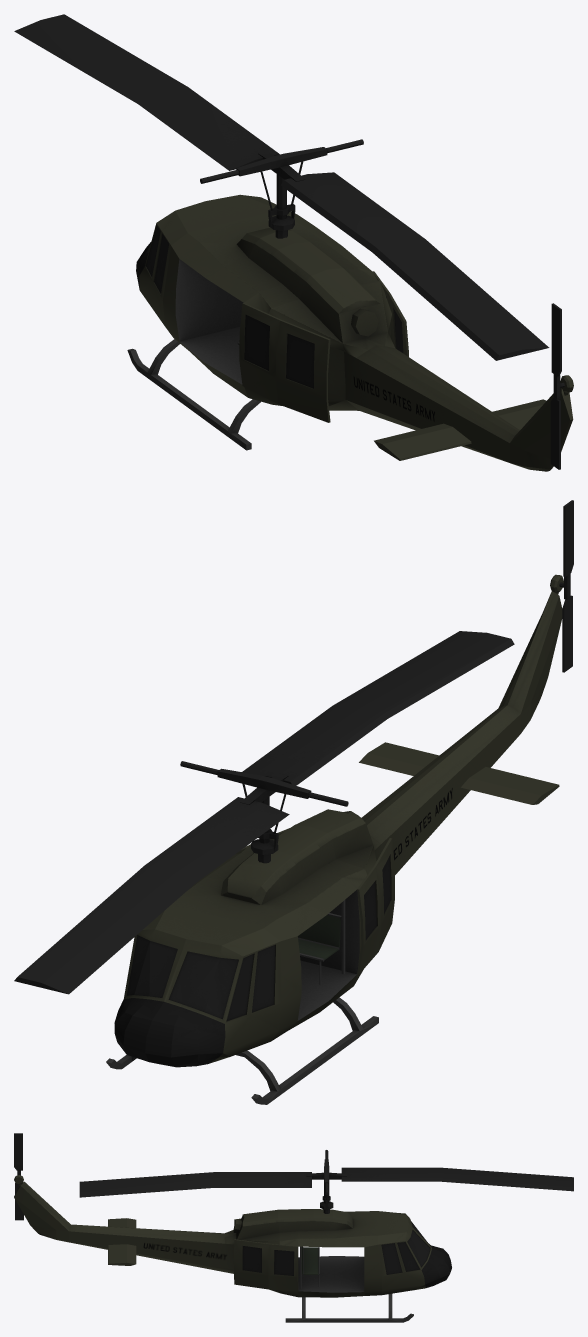
3 views of the same model, one above another, from view 1: azimuth 30°, elevation 25°; view 2: azimuth 150°, elevation 25°; view 3: azimuth 270°, elevation 25° (orthographic). The views are drawn at different scales.
Visible parts, largest first — view 1: Body, Main_Rotor, Door_Left, Tail_Fin, Skids, Tail_Rotor, Door_Right; view 2: Body, Main_Rotor, Tail_Fin, Door_Left, Skids, Seat, Tail_Rotor; view 3: Body, Main_Rotor, Door_Right, Tail_Fin, Skids, Seat, Tail_Rotor.
Part boxes in pixels (x1,y1,x2,y2): Body: [136, 194, 573, 471]; Main_Rotor: [14, 14, 549, 360]; Door_Left: [239, 303, 330, 422]; Tail_Fin: [374, 399, 546, 460]; Skids: [127, 339, 260, 450]; Tail_Rotor: [550, 303, 564, 469]; Door_Right: [372, 271, 408, 356]; Body: [114, 591, 562, 1067]; Main_Rotor: [14, 631, 514, 994]; Tail_Fin: [359, 742, 559, 804]; Door_Left: [357, 838, 394, 974]; Skids: [106, 997, 378, 1104]; Seat: [298, 900, 345, 984]; Tail_Rotor: [559, 500, 573, 672]; Body: [14, 1181, 451, 1297]; Main_Rotor: [79, 1150, 573, 1213]; Door_Right: [234, 1239, 298, 1291]; Tail_Fin: [108, 1218, 136, 1265]; Skids: [285, 1293, 413, 1322]; Seat: [300, 1246, 319, 1288]; Tail_Rotor: [14, 1133, 23, 1220].
Size of the model in its own units: 5.01 by 8.74 by 26.55.
